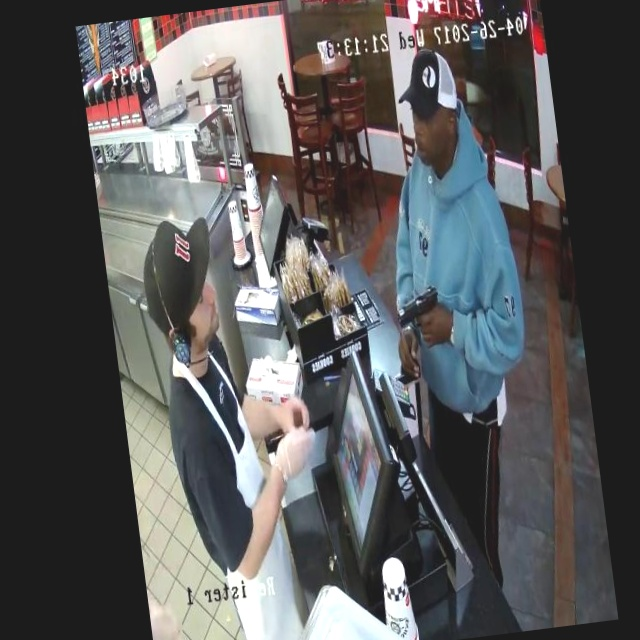gun: (383, 260, 459, 357)
